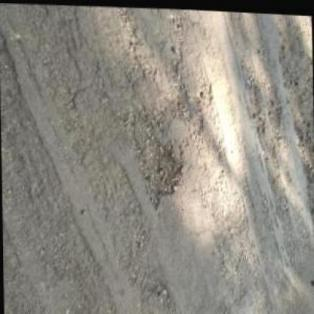Hueco: (135, 133, 184, 209), (248, 88, 266, 132), (267, 86, 283, 127)
